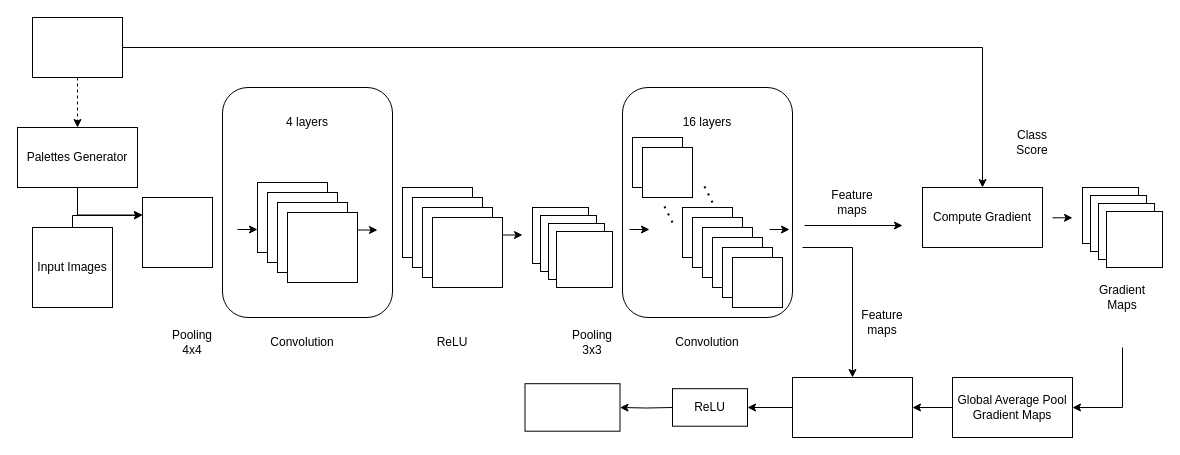
This 1180x455 diagram has some shape labels left out. The centre of each missing label's shape, as x and y in pixels:
ANN: [77,47]
Grad-CAM Heatmap: [572,407]
Weighted Combination: [852,407]
